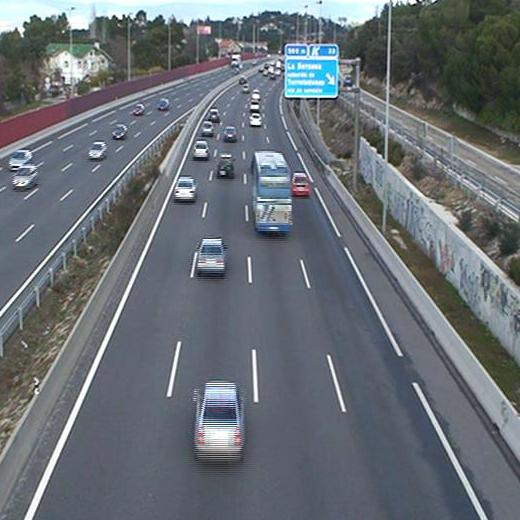bus: (250, 150, 292, 233)
car: (192, 381, 244, 454), (195, 237, 228, 274), (174, 176, 197, 200), (292, 172, 312, 195), (215, 155, 235, 177), (192, 140, 210, 158), (200, 120, 214, 135), (222, 127, 237, 140), (250, 113, 263, 127), (208, 108, 220, 120)
